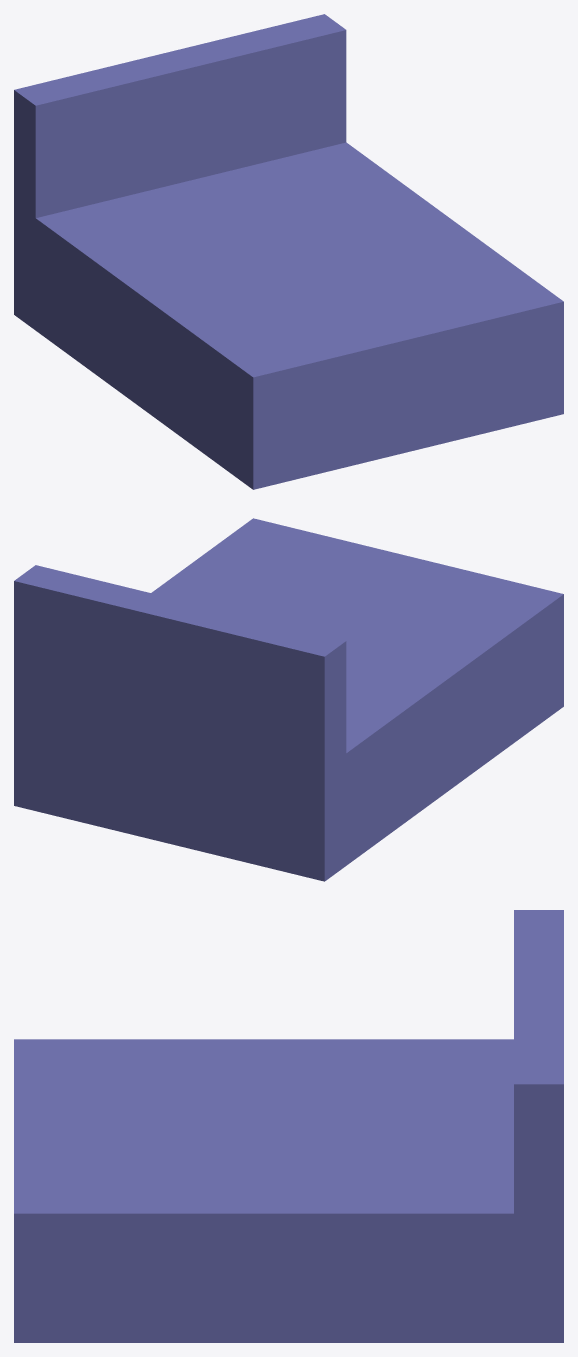
Rendered from sm_Bed.fbx.
3 renders of one model, top to bottom at view 1: azimuth 30°, elevation 25°; view 2: azimuth 150°, elevation 25°; view 3: azimuth 270°, elevation 25°, orthographic. The views are drawn at different scales.
Visible parts, largest first — view 1: sm_Bed; view 2: sm_Bed; view 3: sm_Bed.
Boxes of the visible parts, bbox=[...] form: sm_Bed: bbox=[14, 14, 563, 489]; sm_Bed: bbox=[14, 518, 563, 881]; sm_Bed: bbox=[14, 910, 563, 1342].
Bounding box in the file's own units: 1.65 × 1.14 × 2.2.
